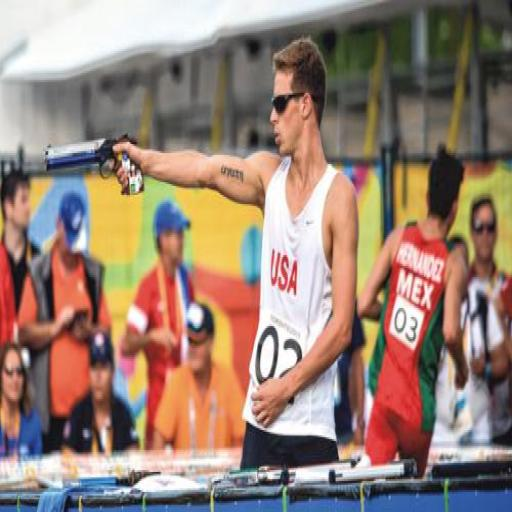shooting: (110, 34, 362, 474)
